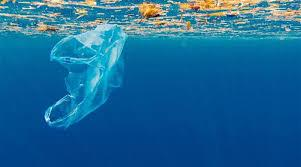Trash: (41, 19, 145, 134)
